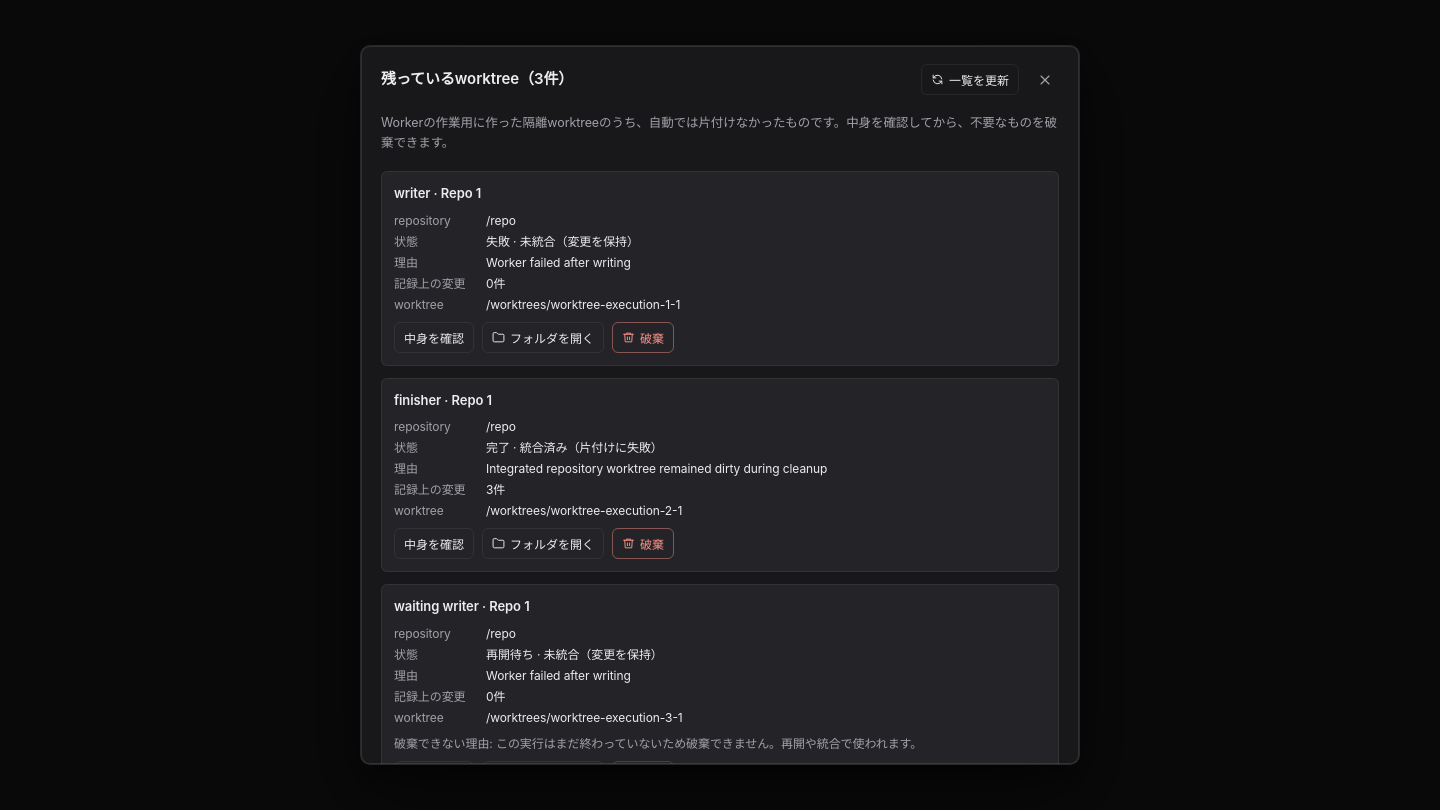
Scenario: TeamRetainedWorktreesDialog (issue #544) › asks before discarding an unintegrated worktree and says it cannot be undone
This screenshot has width=1440, height=810.
Click the button "破棄" below "失敗 · 未統合（変更を保持）": (643, 337) [612,322,674,352]
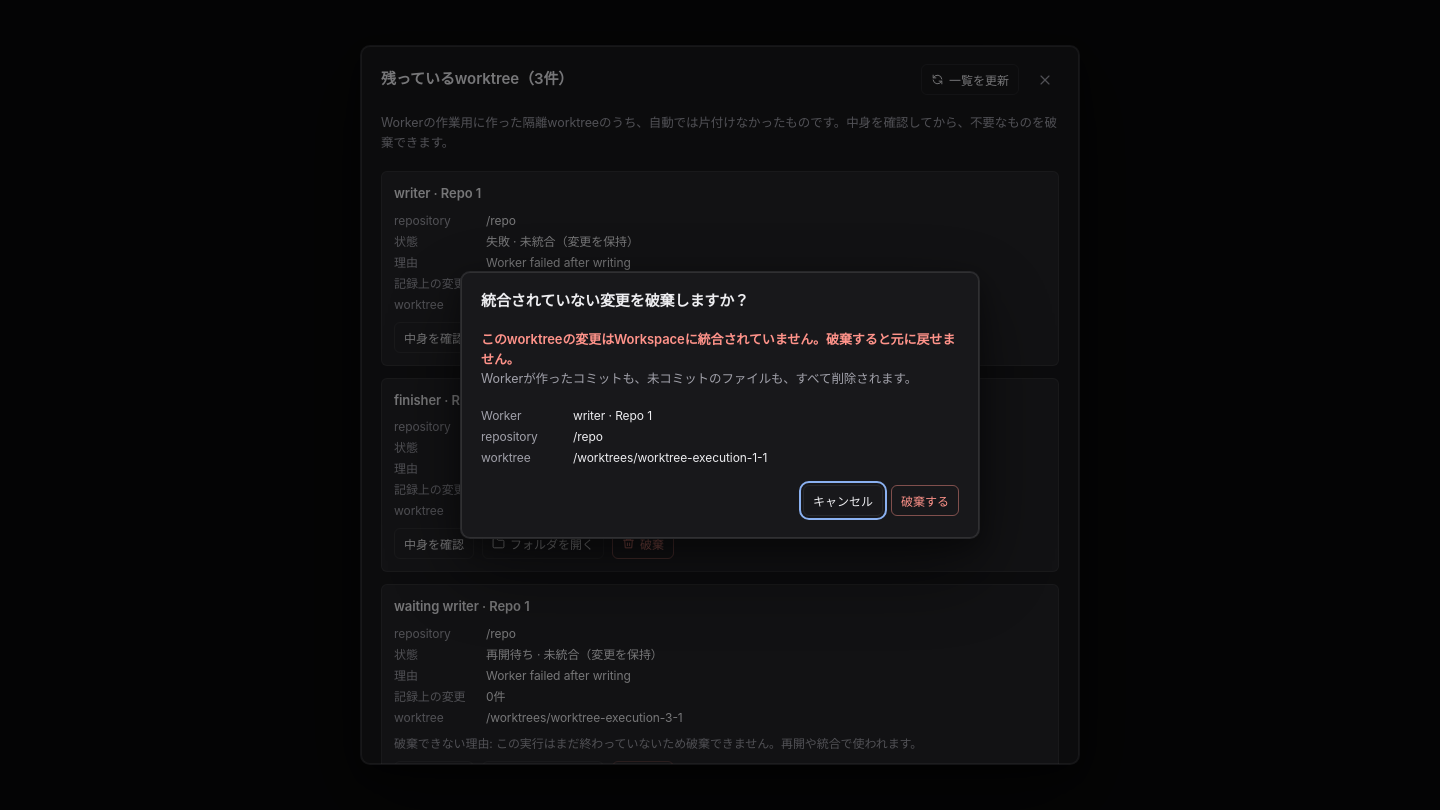
Now the text with test id "team-retained-confirm-warning" reads "このworktreeの変更はWorkspaceに統合されていません。破棄すると元に戻せません。", box [481,331,955,367]
Now the dialog with test id "team-retained-confirm" shows "/worktrees/worktree-execution-1-1", box [573,450,767,465]
Click the button with test id "team-retained-confirm-discard": (925, 501) [891,485,959,516]
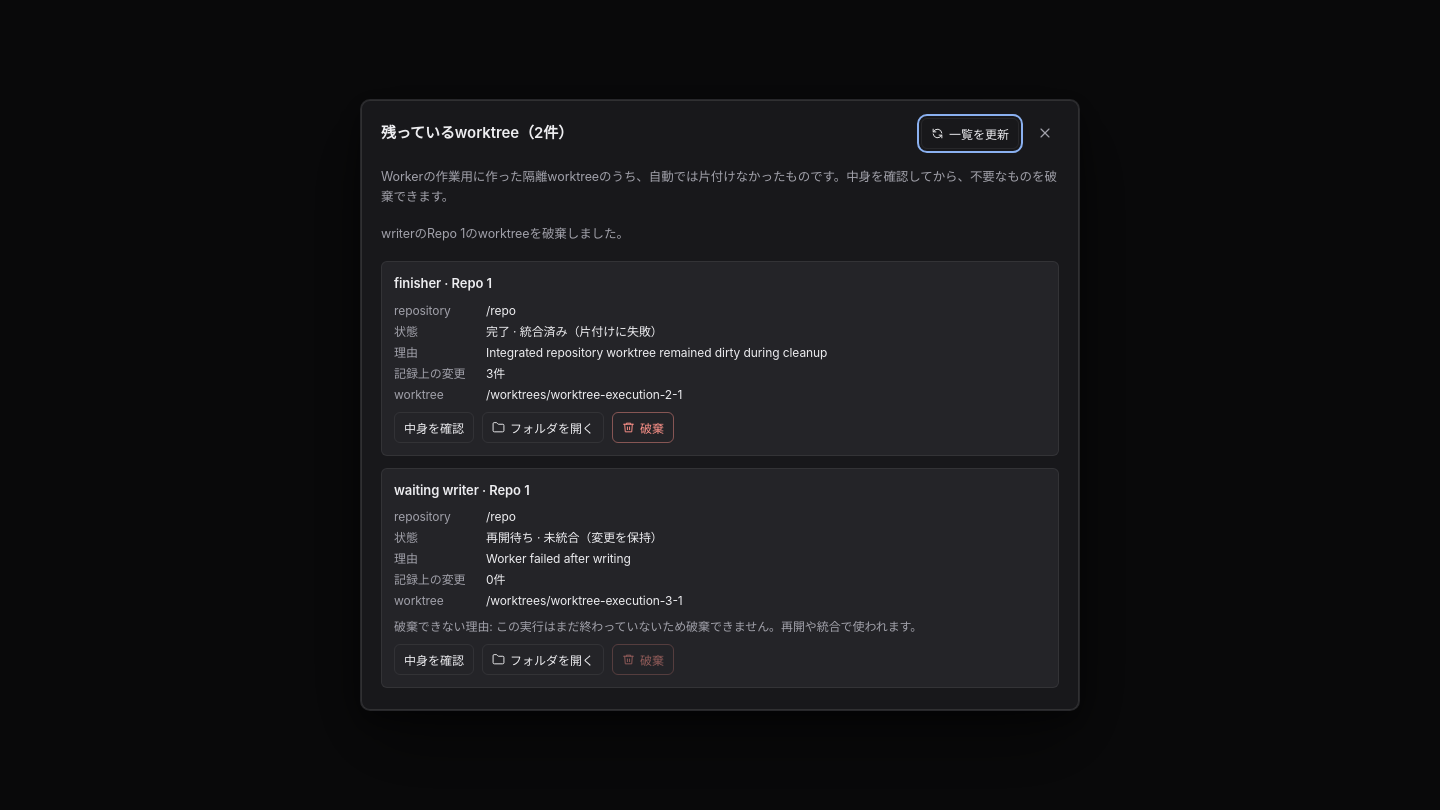
Now the dialog with test id "team-retained-confirm" is gone
Now the text "残っているworktree（2件）" is shown, box [381,123,573,142]
Now the message with test id "team-retained-notice" shows "worktreeを破棄しました", box [381,226,629,241]
